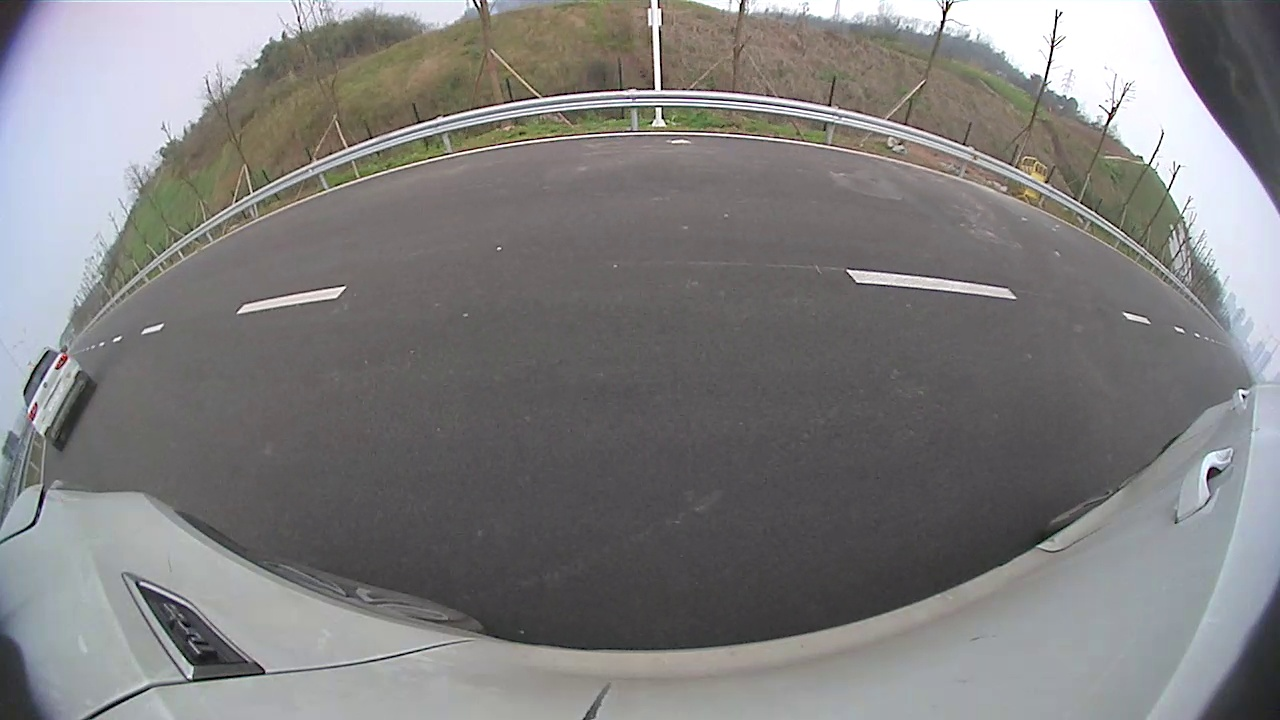car: (22, 347, 97, 452)
